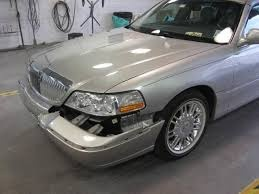Dent: (41, 105, 163, 161)
